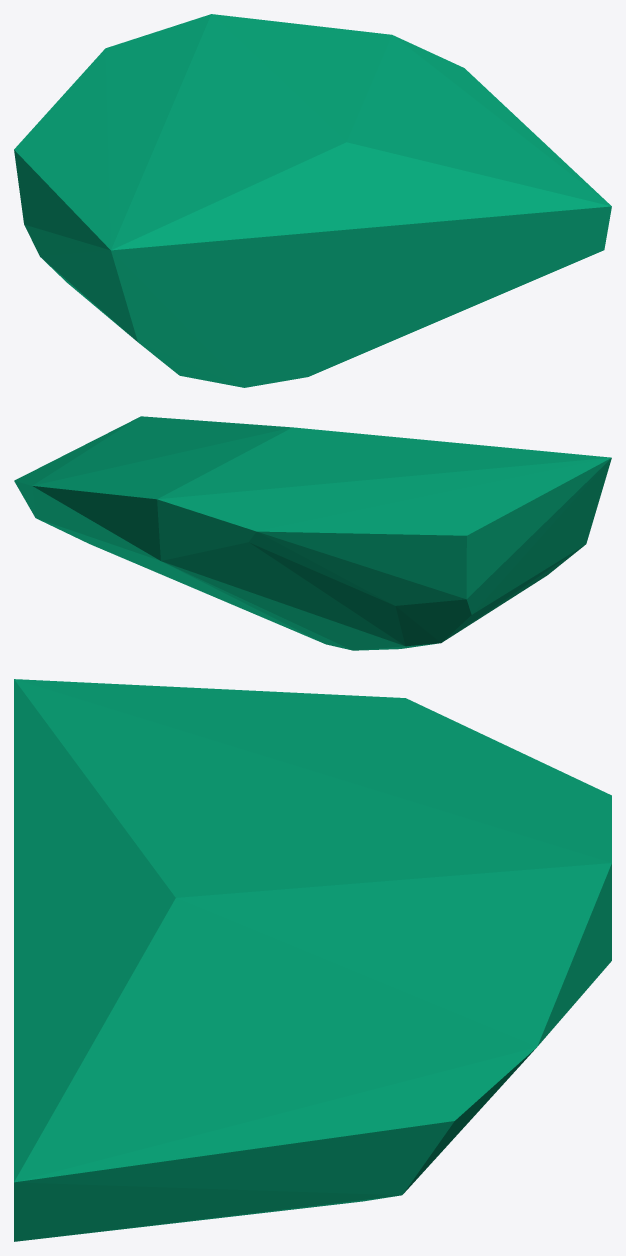
3 renders of one model, top to bottom at view 1: azimuth 30°, elevation 25°; view 2: azimuth 150°, elevation 25°; view 3: azimuth 270°, elevation 25°, orthographic. The views are drawn at different scales.
Bounding box in the file's own units: 6.14 × 2.34 × 4.07.
